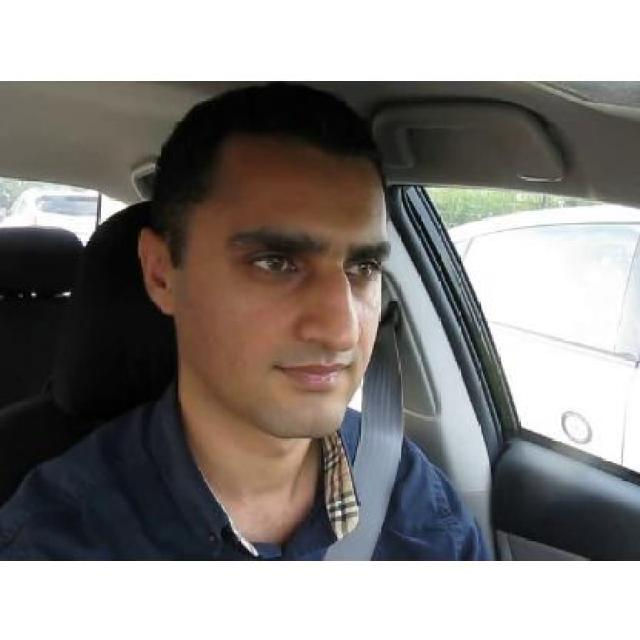attentif: (142, 83, 390, 440)
